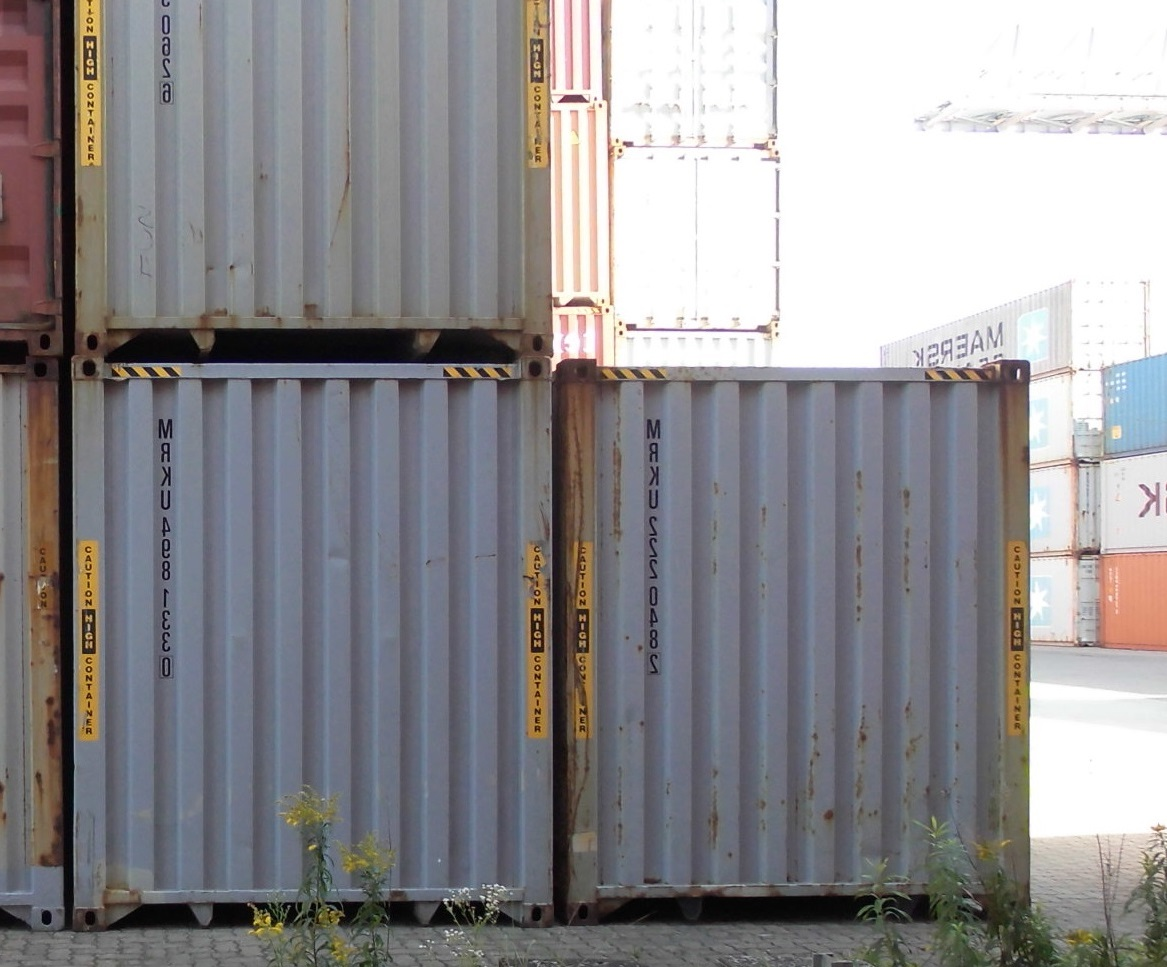container_no_door: (74, 366, 558, 927), (550, 357, 1034, 918), (73, 1, 552, 358)
